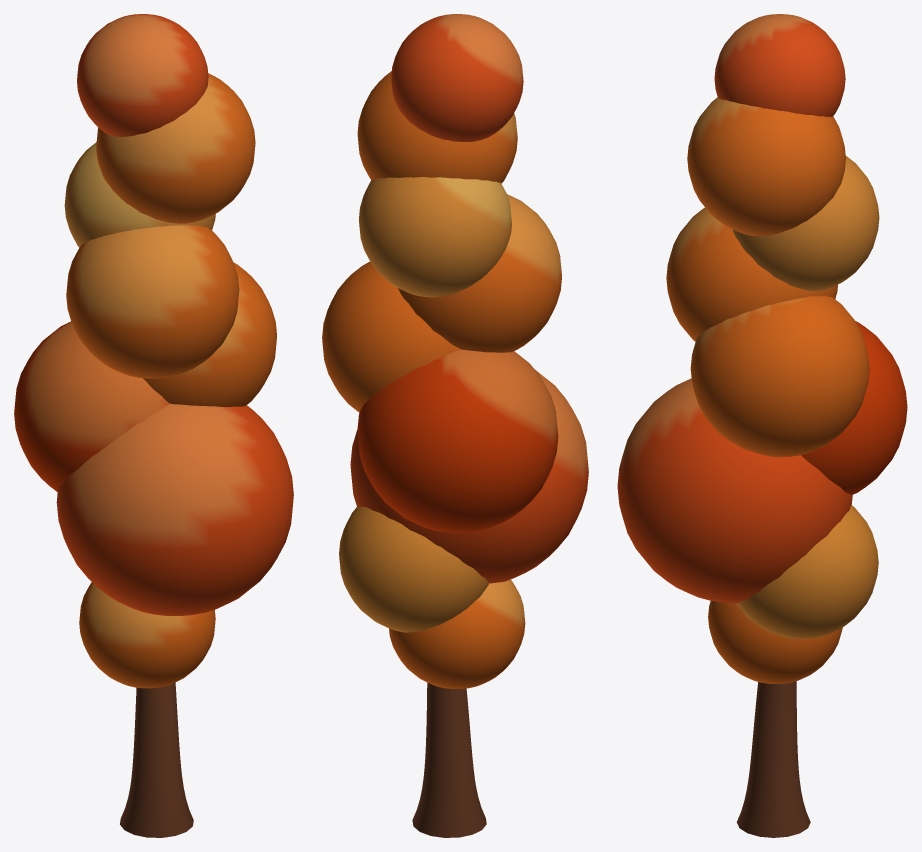
File: tall-tree-117.obj
3 views of the same model, side by side, from view 1: azimuth 30°, elevation 25°; view 2: azimuth 150°, elevation 25°; view 3: azimuth 270°, elevation 25° (orthographic).
Visible parts, largest first — view 1: tree; view 2: tree; view 3: tree.
Part boxes in pixels (left/top/right/bottom): tree: left=14, top=14, right=293, bottom=837; tree: left=322, top=14, right=588, bottom=837; tree: left=617, top=14, right=907, bottom=837.
Bounding box in the file's own units: 202 × 690 × 228.
